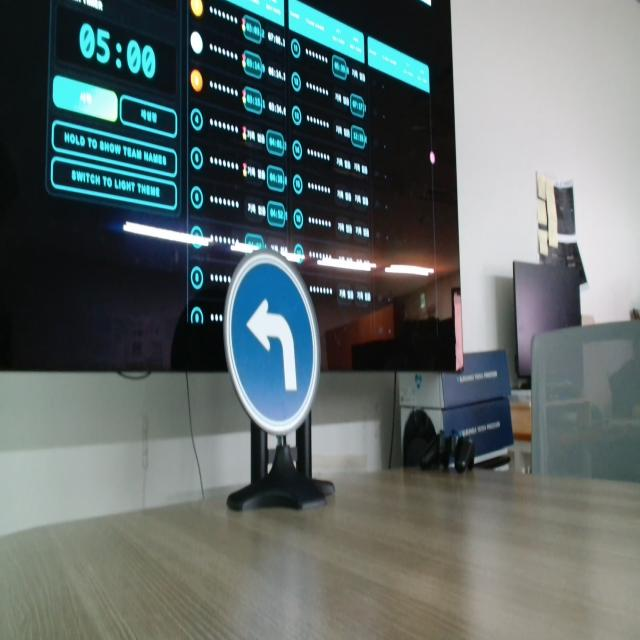left_direction: (213, 232, 324, 441)
